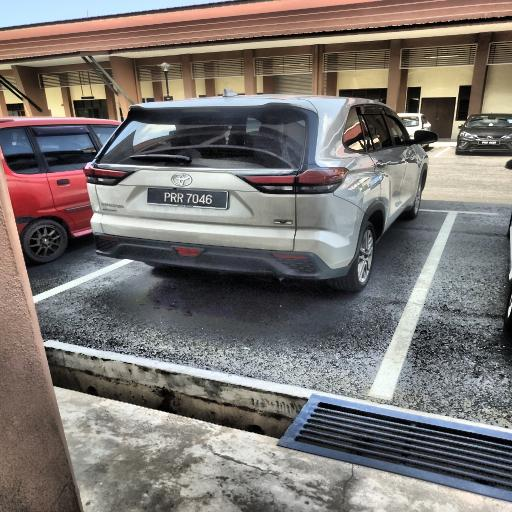license_plate: (140, 185, 231, 211), (477, 140, 500, 145)
